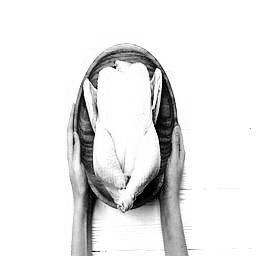bukan telur: (84, 60, 165, 208)
